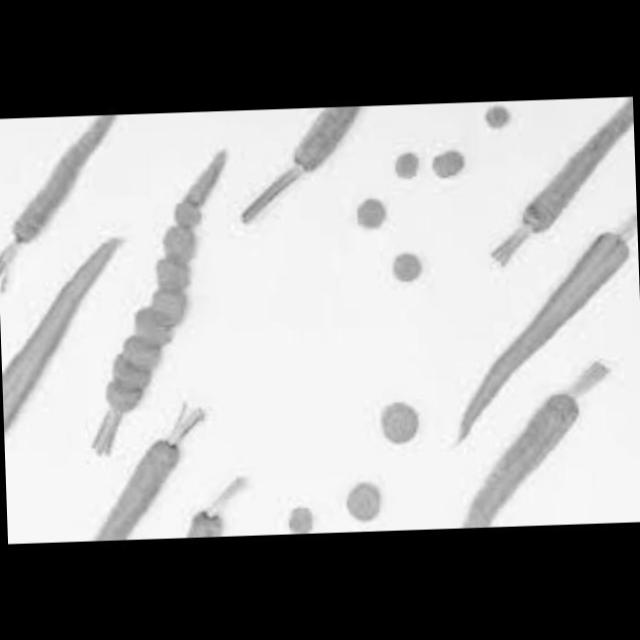ca rot: (444, 226, 640, 452), (83, 156, 229, 424), (0, 234, 139, 439), (457, 368, 605, 530), (0, 116, 124, 298), (502, 98, 638, 260), (88, 416, 188, 542), (289, 107, 364, 185), (373, 392, 427, 462), (334, 481, 393, 531), (382, 247, 428, 299), (349, 194, 398, 236), (474, 104, 515, 145), (428, 144, 470, 182), (390, 142, 424, 186), (278, 504, 322, 536), (196, 508, 227, 538)
